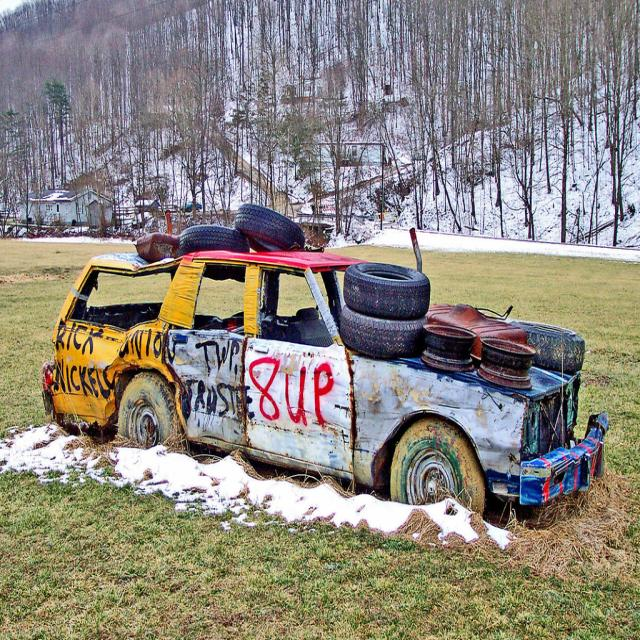car: (44, 229, 518, 468)
